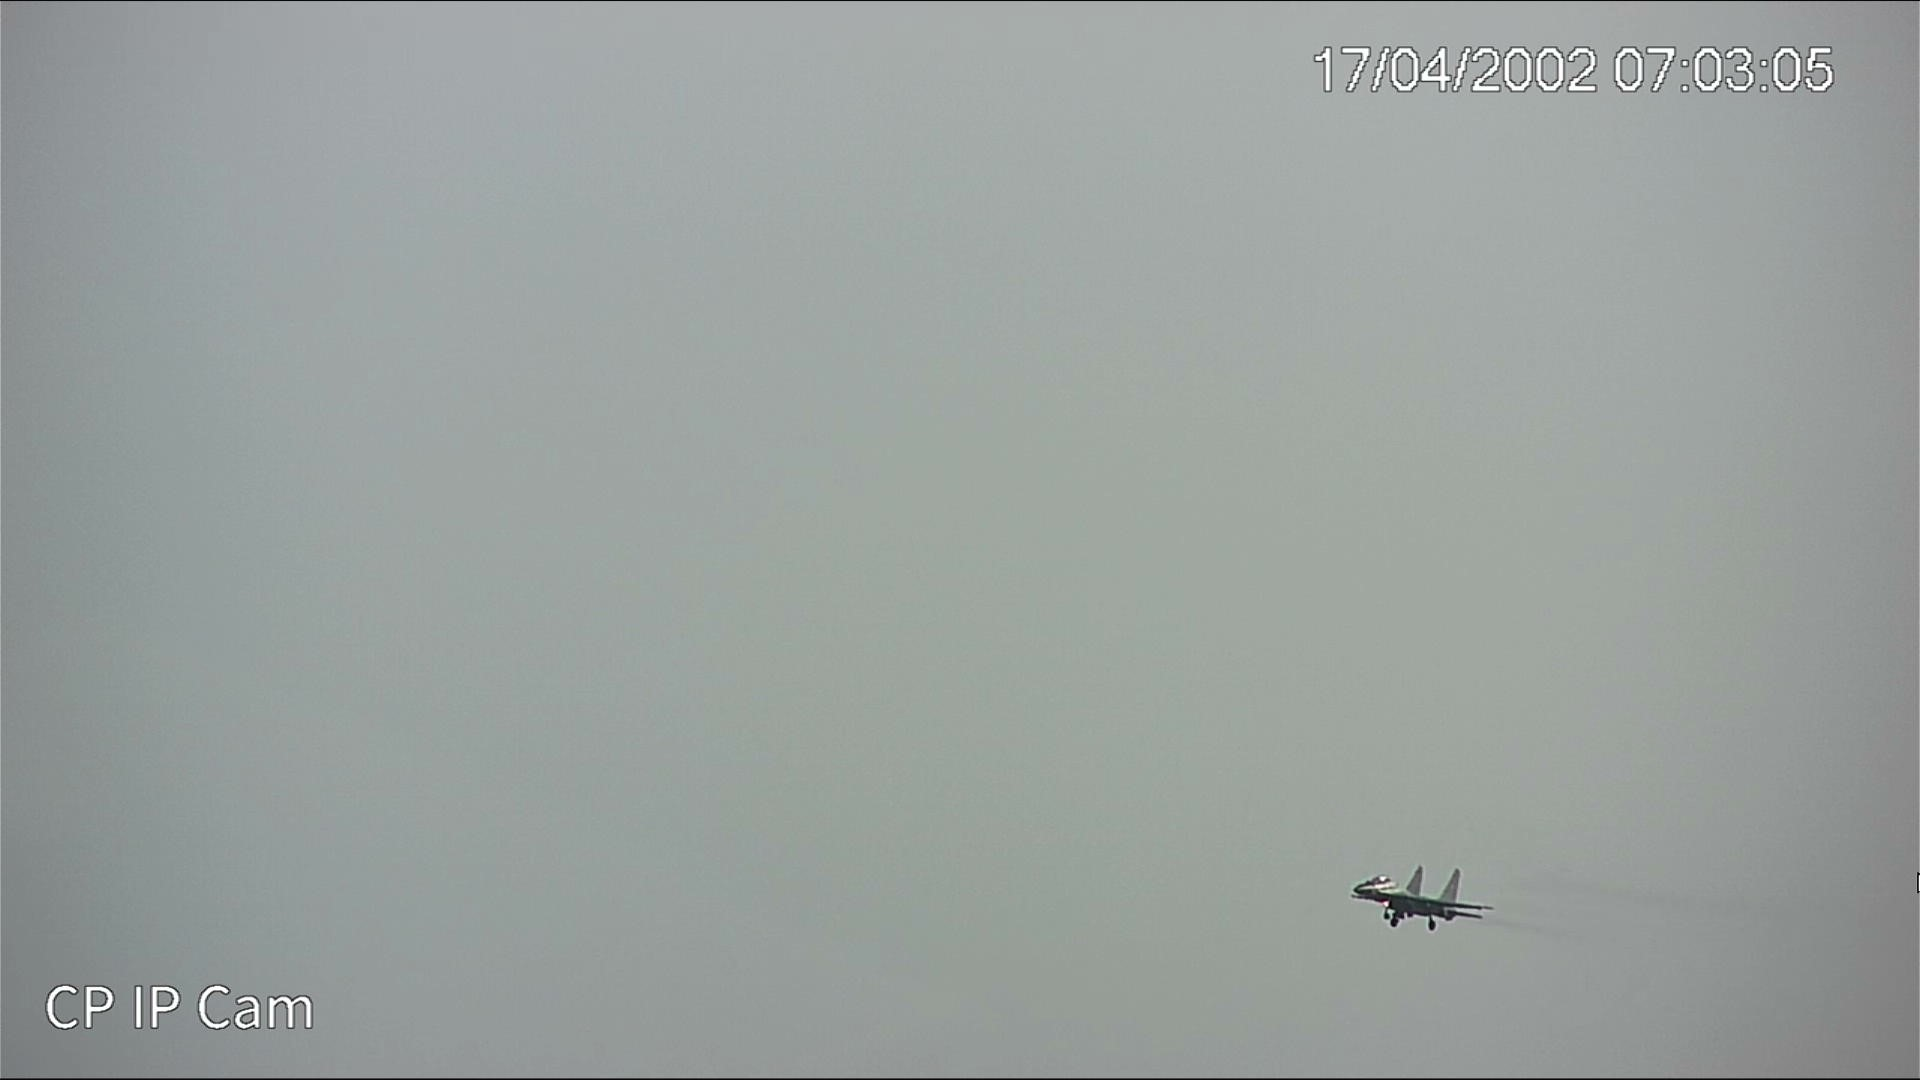SU_30: (1350, 864, 1491, 930)
